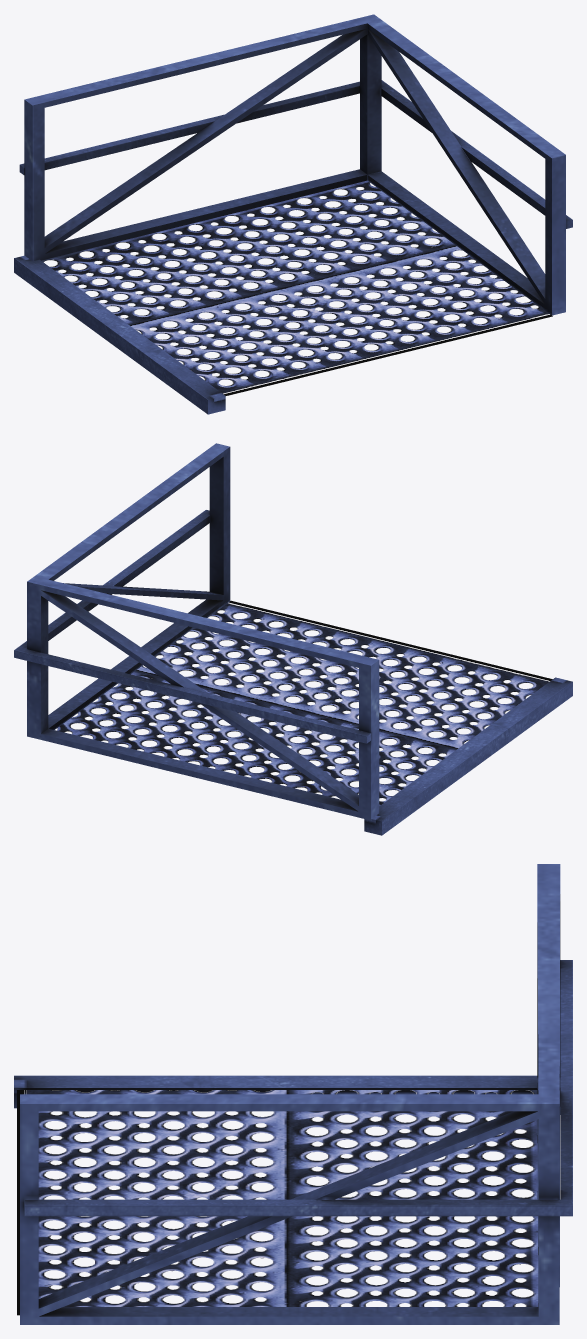
File: WalkwayAngle.FBX
3 renders of one model, top to bottom at view 1: azimuth 30°, elevation 25°; view 2: azimuth 150°, elevation 25°; view 3: azimuth 270°, elevation 25°, orthographic. The views are drawn at different scales.
Parts seen in each view (by area): view 1: Box005, Object037; view 2: Box005, Object037; view 3: Box005, Object037.
Boxes of the visible parts, x1,y1,x2,y2 form: Box005: (19,14,572,395); Object037: (14,255,225,414); Box005: (14,443,552,820); Object037: (364,677,572,835); Box005: (17,864,572,1324); Object037: (14,1075,537,1108).
Bounding box in the file's own units: 1609 × 710 × 1503.
